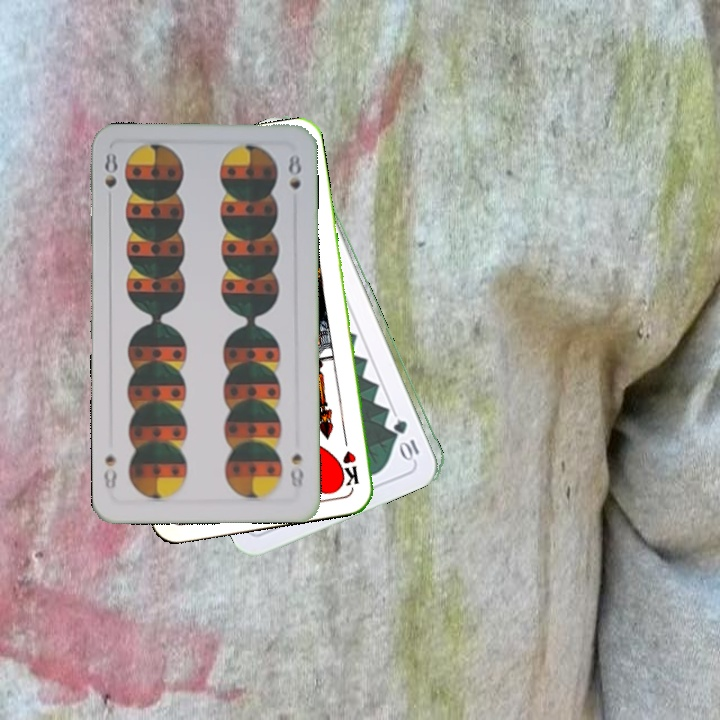G10: (392, 414, 422, 462)
HK: (338, 429, 362, 489)
S8: (100, 148, 120, 190), (287, 449, 306, 491)
